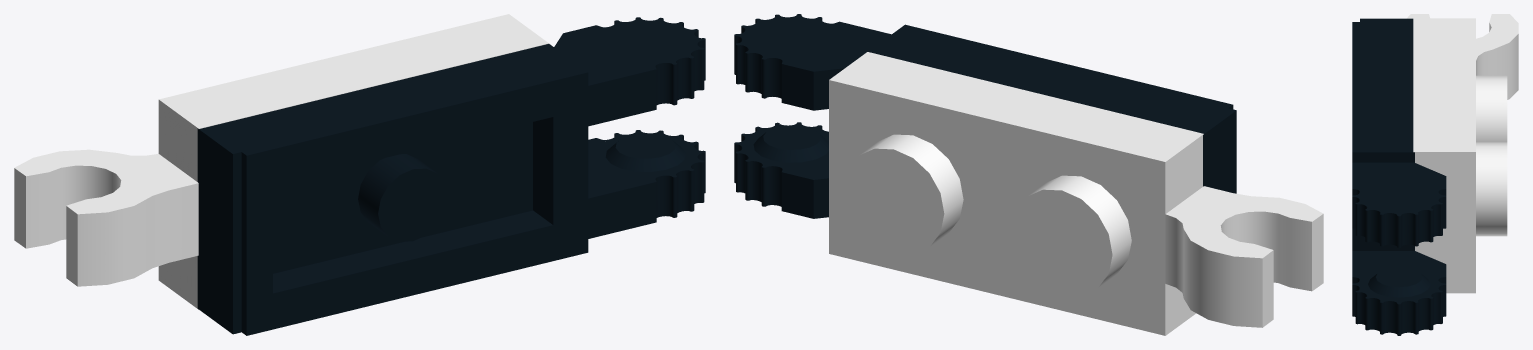
File: arm.dae
The picture shows the model from 3 angles, left to right: view 1: azimuth 30°, elevation 25°; view 2: azimuth 150°, elevation 25°; view 3: azimuth 270°, elevation 25°; orthographic projection. The views are drawn at different scales.
Parts seen in each view (by area): view 1: 44302_dot_dat.001, 63868_dot_dat.001; view 2: 63868_dot_dat.001, 44302_dot_dat.001; view 3: 44302_dot_dat.001, 63868_dot_dat.001.
Part boxes in pixels (x1,y1,x2,y2): 44302_dot_dat.001: (197, 17, 705, 335); 63868_dot_dat.001: (14, 14, 548, 309); 63868_dot_dat.001: (829, 52, 1323, 335); 44302_dot_dat.001: (734, 14, 1236, 218); 44302_dot_dat.001: (1352, 18, 1446, 335); 63868_dot_dat.001: (1407, 14, 1518, 293).
Size of the model in its own units: 2.79 by 0.8392 by 0.7866.
